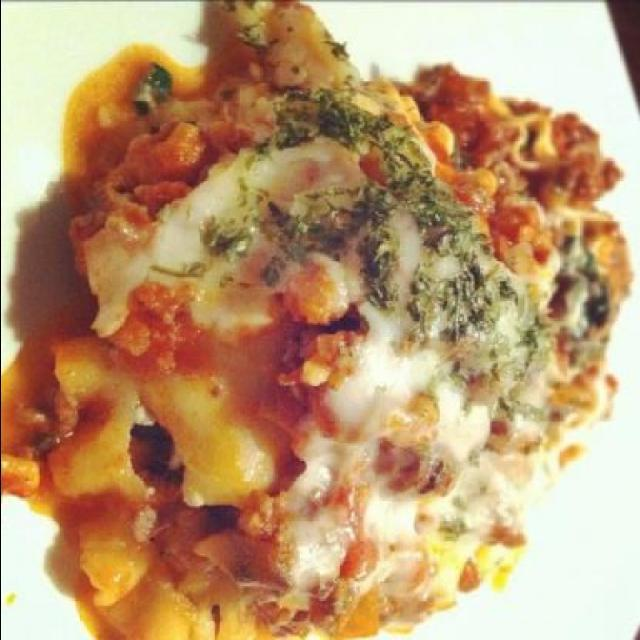Lasagna: (22, 66, 540, 638)
